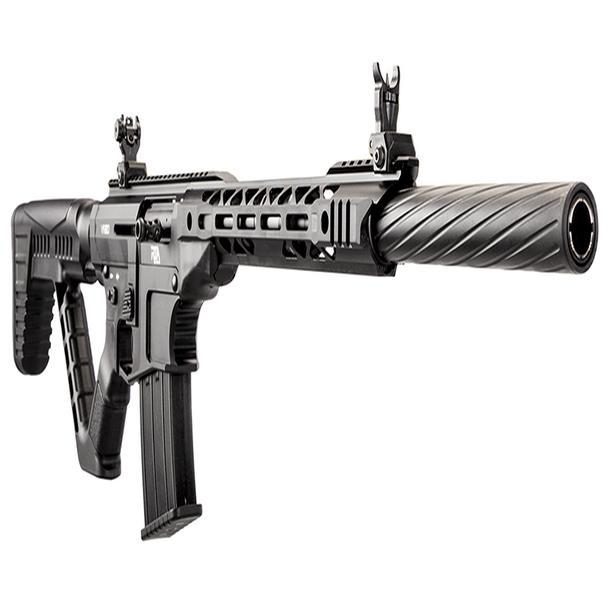Firearm: (6, 105, 612, 543)
